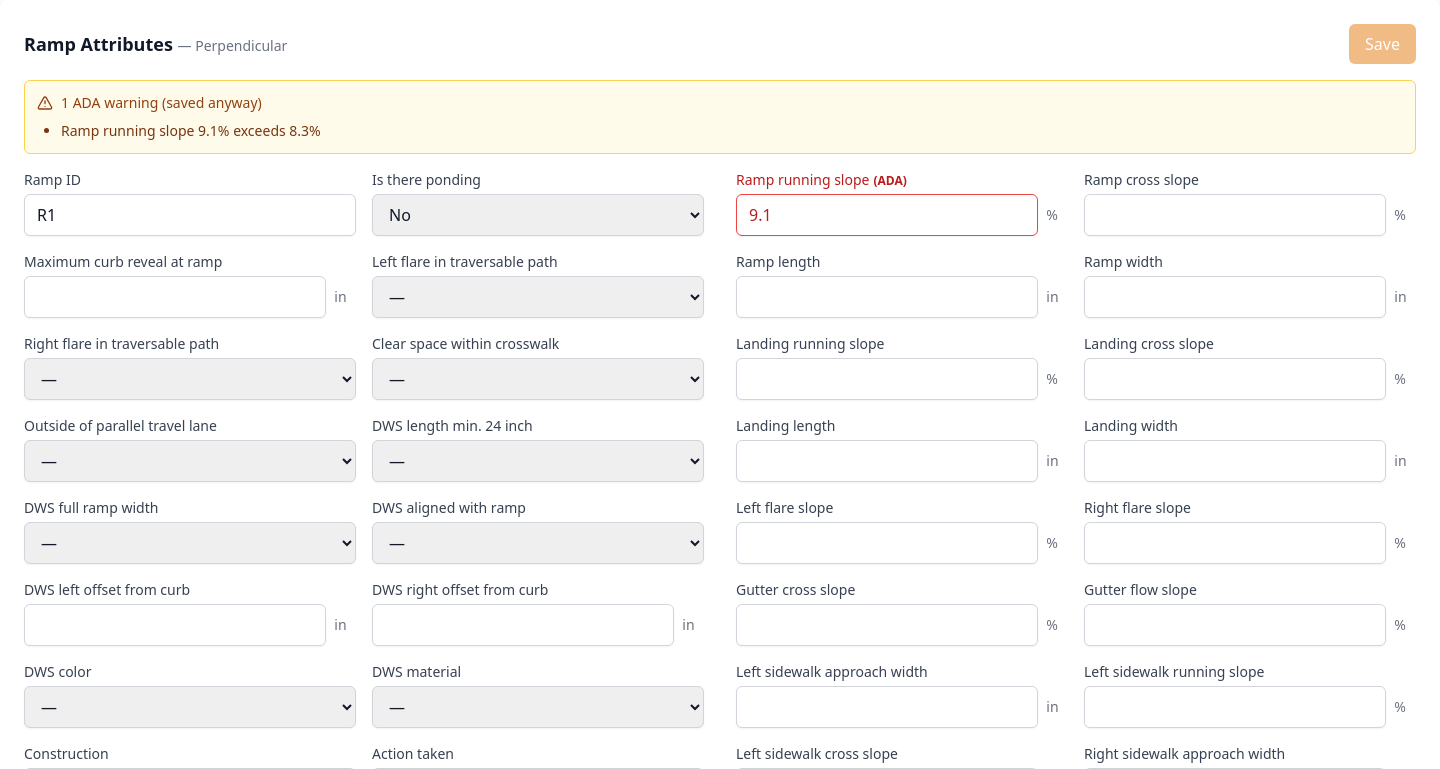
Test case: RampAttributesSection › saves the whole set for its type, and shows what came back
Replace the text in the field labelled "Ramp running slope(ADA)" with "7.5". click: (887, 215)
box: top-left (736, 194), bottom-right (1038, 236)
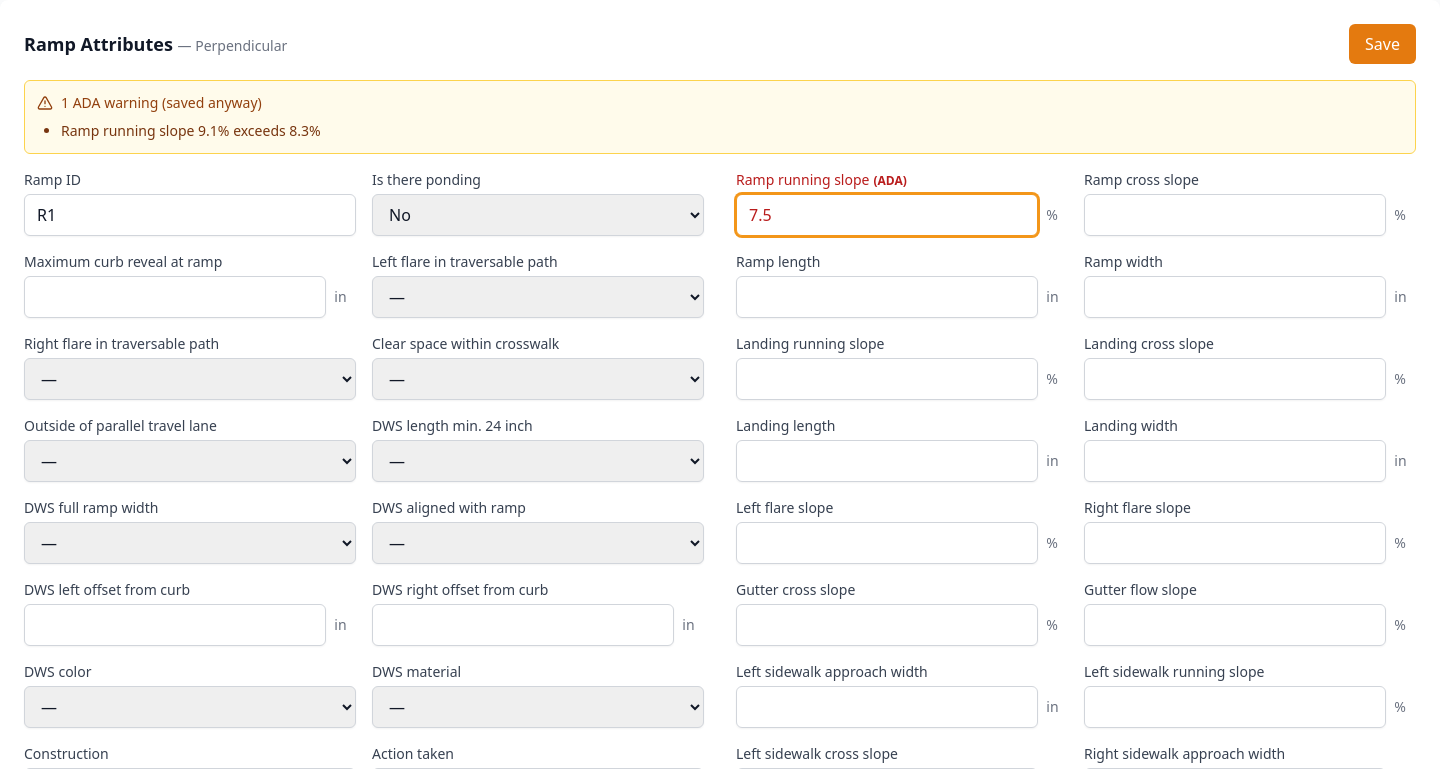
Select "Dark on light" in the dropdown labelled "DWS color". click: (190, 707)
box: top-left (24, 686), bottom-right (356, 728)
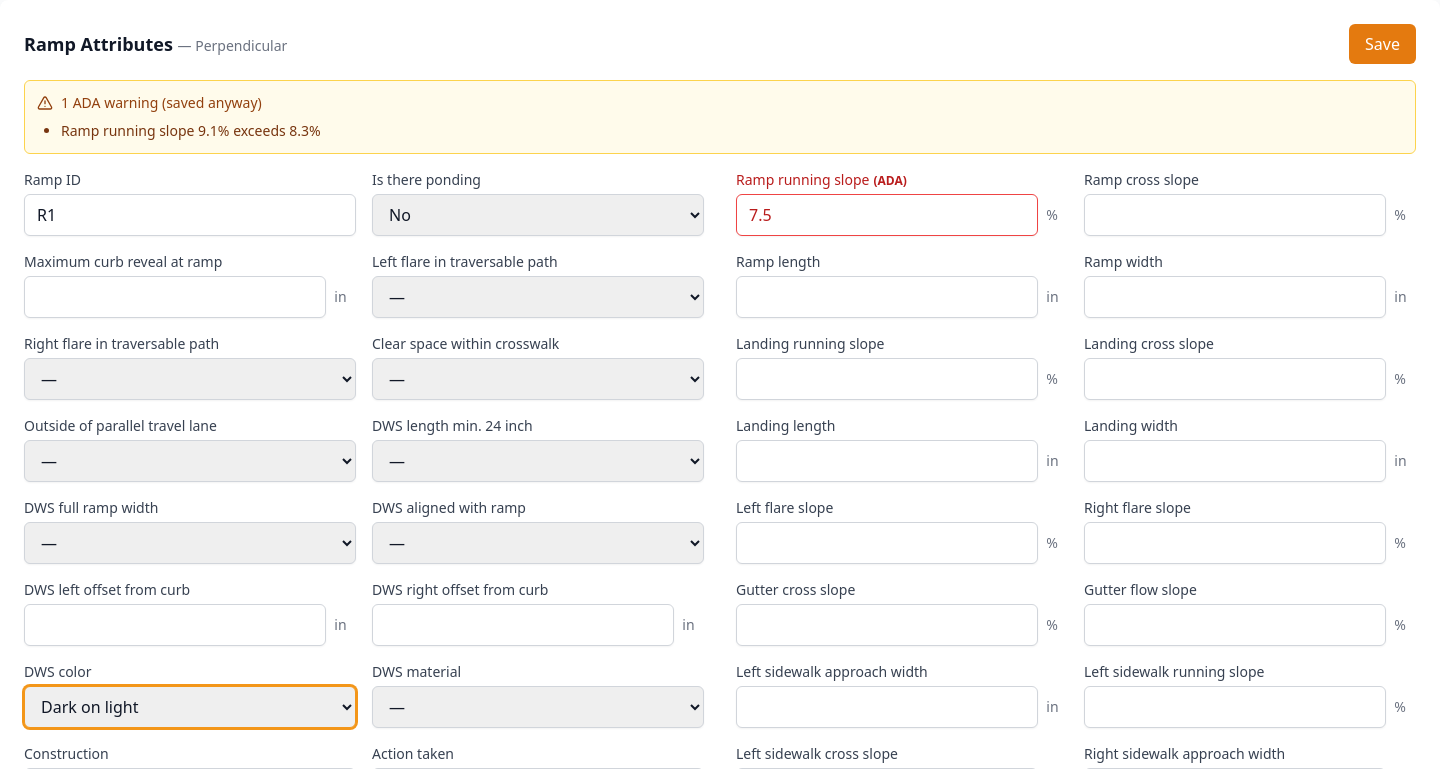
Click the button "Save". click: click(1383, 44)
box: top-left (1349, 24), bottom-right (1416, 64)
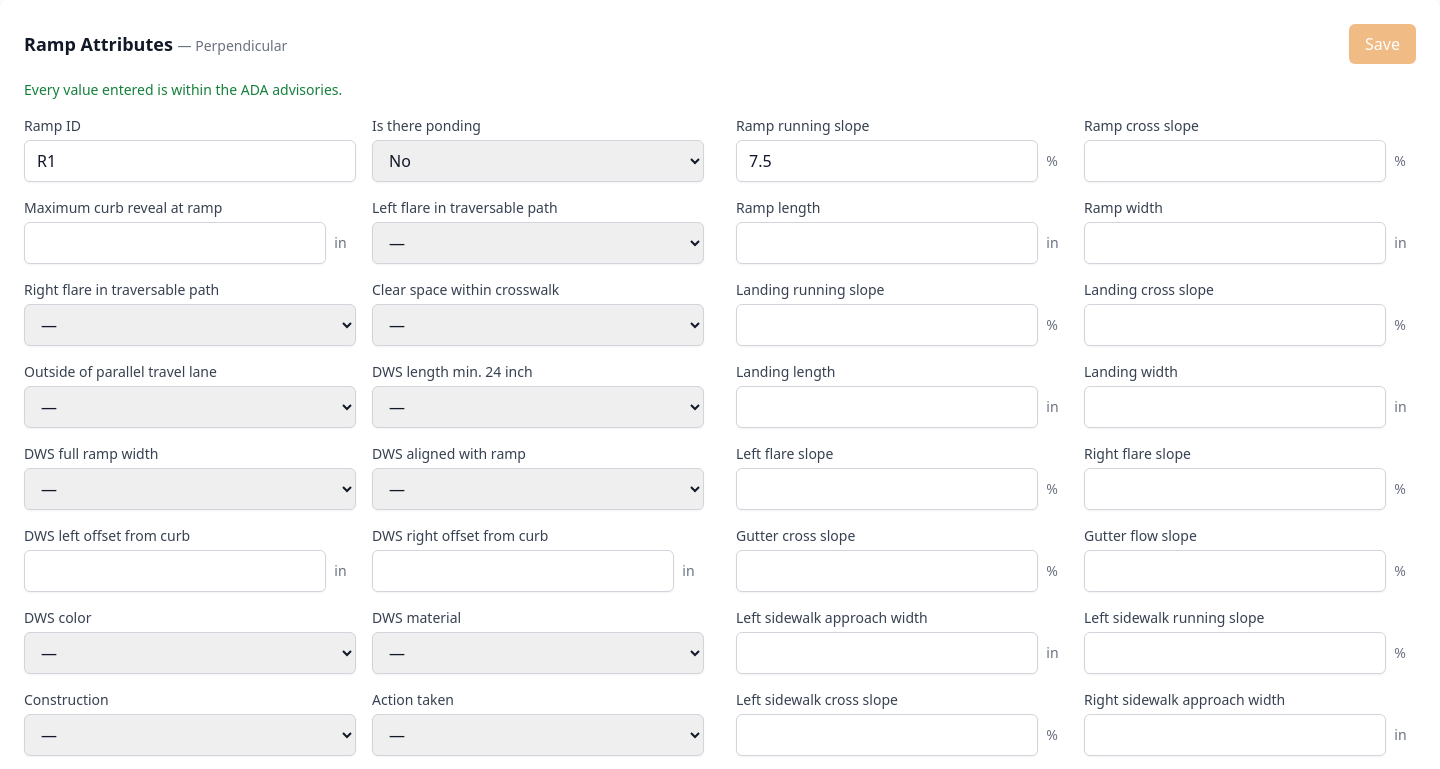
Expected: the text "Every value entered is within the ADA advisories." is shown, top-left (24, 80), bottom-right (342, 99)
